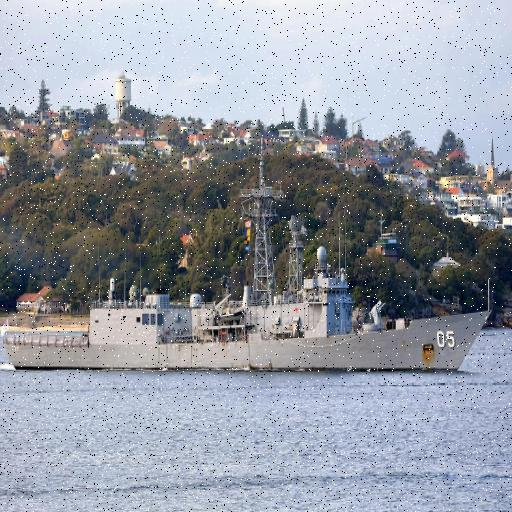Fragata: (1, 152, 498, 382)
